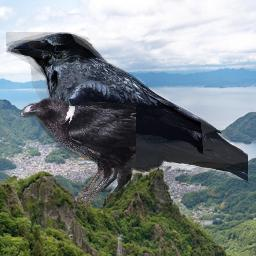Crow: (6, 32, 248, 192), (20, 97, 136, 211)
